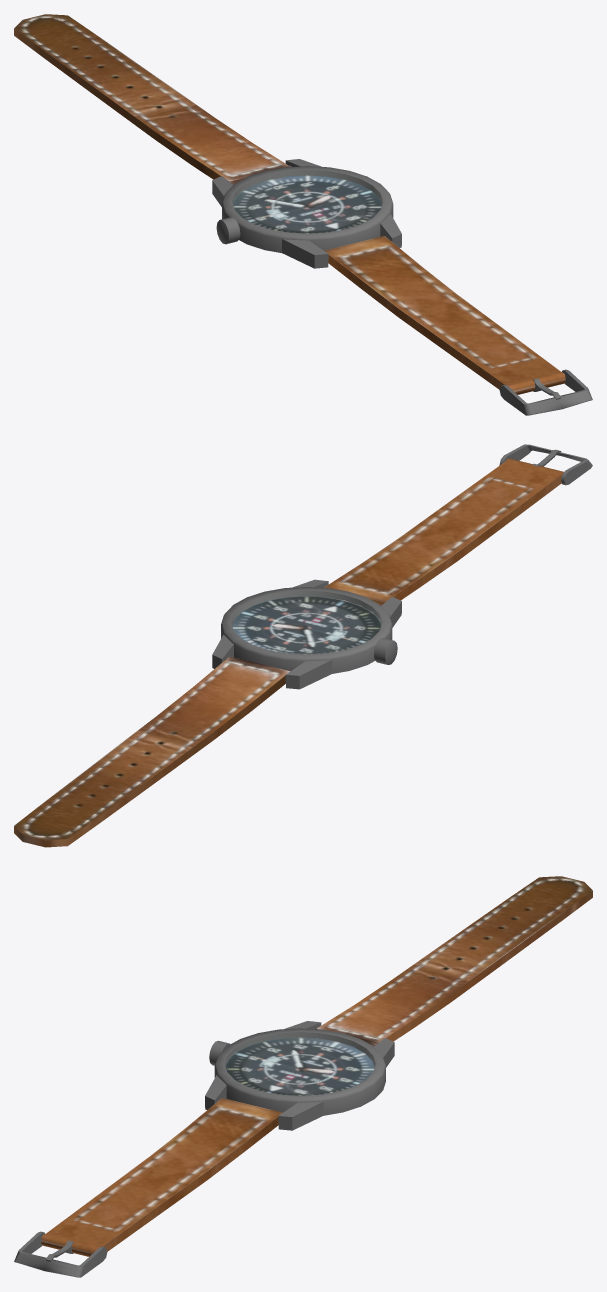
The model's file is sweethome3d-scopia-watch-253.glb.
The picture shows the model from 3 angles, top to bottom: view 1: azimuth 30°, elevation 25°; view 2: azimuth 150°, elevation 25°; view 3: azimuth 330°, elevation 25°; orthographic projection.
Parts seen in each view (by area): view 1: belt_Plane.001, glass_Circle.001, sphere_Circle, buckle_Cube; view 2: belt_Plane.001, glass_Circle.001, sphere_Circle, buckle_Cube; view 3: belt_Plane.001, glass_Circle.001, sphere_Circle, buckle_Cube.
Part boxes in pixels (x1,y1,x2,y2): belt_Plane.001: [14, 14, 565, 394]; glass_Circle.001: [233, 170, 382, 232]; sphere_Circle: [212, 159, 401, 268]; buckle_Cube: [499, 369, 592, 415]; belt_Plane.001: [14, 458, 563, 847]; glass_Circle.001: [232, 591, 381, 653]; sphere_Circle: [212, 579, 401, 689]; buckle_Cube: [499, 444, 592, 485]; belt_Plane.001: [41, 876, 592, 1256]; glass_Circle.001: [225, 1032, 374, 1095]; sphere_Circle: [205, 1021, 394, 1130]; buckle_Cube: [14, 1231, 107, 1277].
Size of the model in its own units: 4.27 by 0.6078 by 24.34.
Materials: 5 (3 with a texture image).
